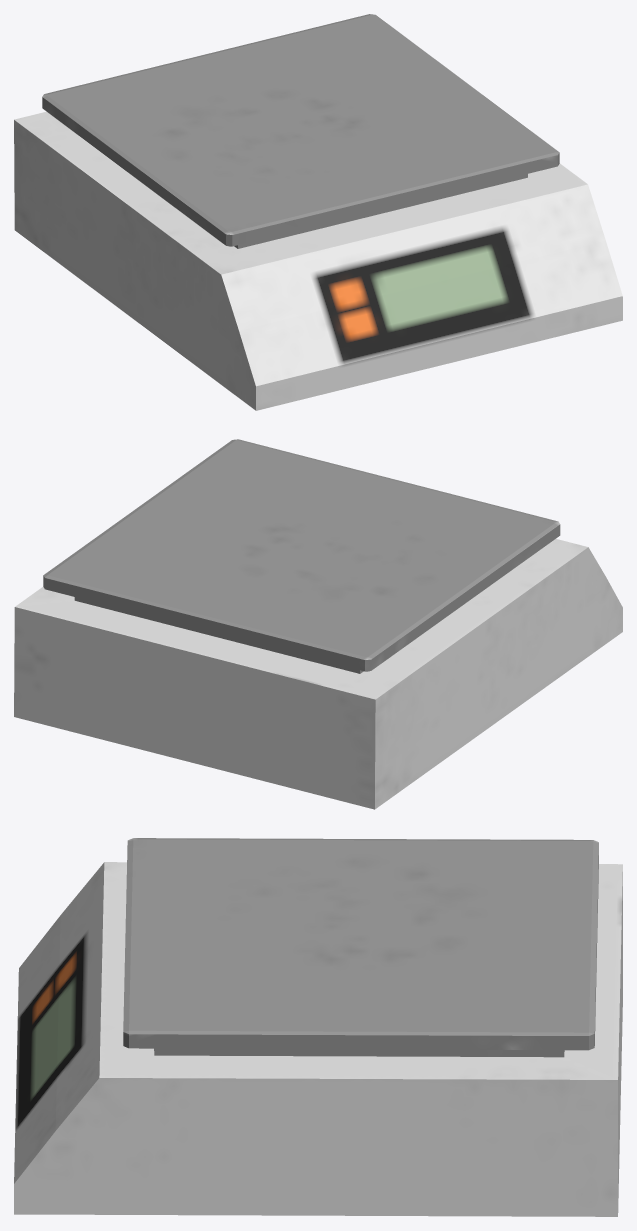
Rendered from labScale00.fbx.
The picture shows the model from 3 angles, top to bottom: view 1: azimuth 30°, elevation 25°; view 2: azimuth 150°, elevation 25°; view 3: azimuth 270°, elevation 25°; orthographic projection. The views are drawn at different scales.
Parts seen in each view (by area): view 1: labScale00; view 2: labScale00; view 3: labScale00.
Part boxes in pixels (bbox=[...]): labScale00: bbox=[14, 14, 622, 410]; labScale00: bbox=[14, 439, 622, 809]; labScale00: bbox=[14, 838, 622, 1216].
Bounding box in the file's own units: 0.6907 × 0.2537 × 0.8018.
Materials: 1 (1 with a texture image).
